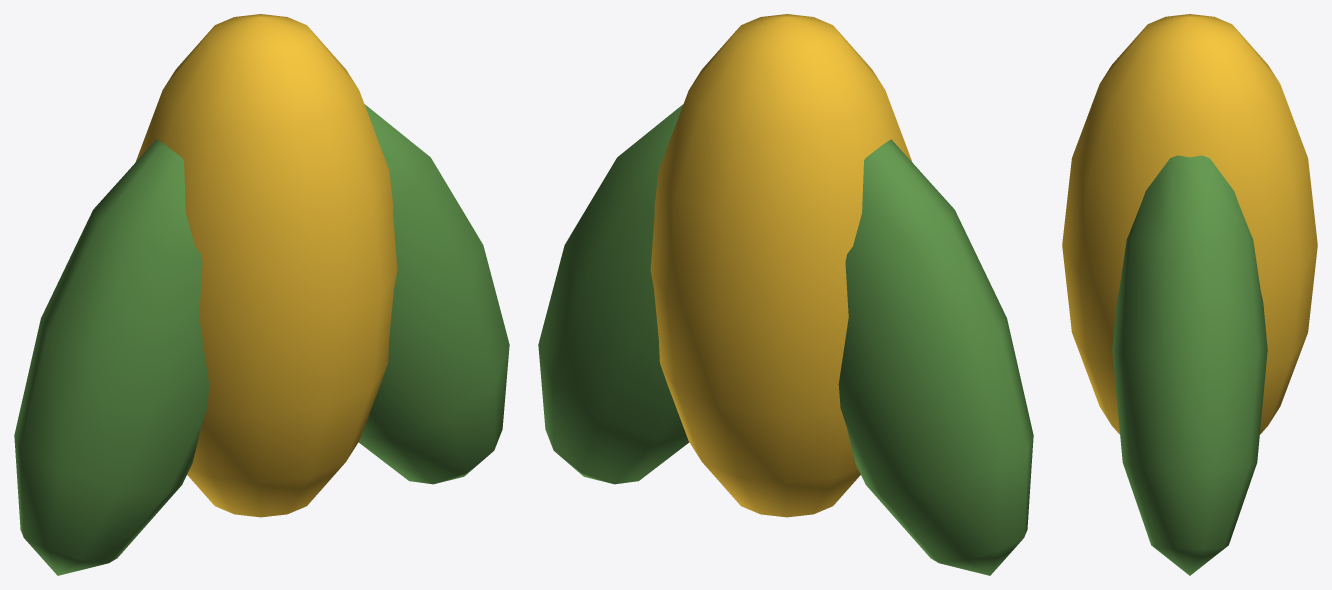
Rendered from product-corn.glb.
The picture shows the model from 3 angles, left to right: view 1: azimuth 30°, elevation 25°; view 2: azimuth 150°, elevation 25°; view 3: azimuth 270°, elevation 25°; orthographic projection. The views are drawn at different scales.
Visible parts, largest first — view 1: n3, n4, n5; view 2: n3, n4, n5; view 3: n3, n5.
Boxes of the visible parts, bbox=[...] form: n3: bbox=[135, 14, 397, 517]; n4: bbox=[14, 139, 209, 575]; n5: bbox=[358, 104, 509, 484]; n3: bbox=[650, 14, 912, 517]; n4: bbox=[838, 139, 1033, 575]; n5: bbox=[538, 104, 689, 484]; n3: bbox=[1062, 14, 1317, 434]; n5: bbox=[1112, 155, 1267, 575].
Size of the model in its own units: 0.184 by 0.1877 by 0.093.
